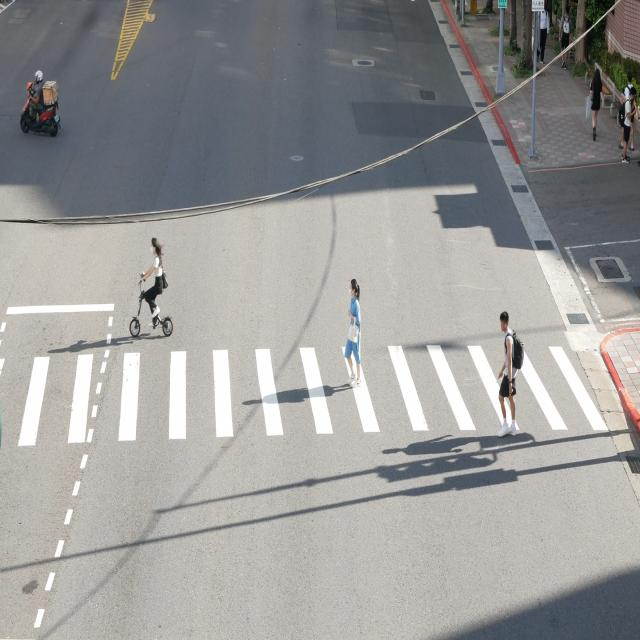pedestrian: (141, 238, 168, 325), (344, 279, 361, 384), (500, 330, 523, 394)
